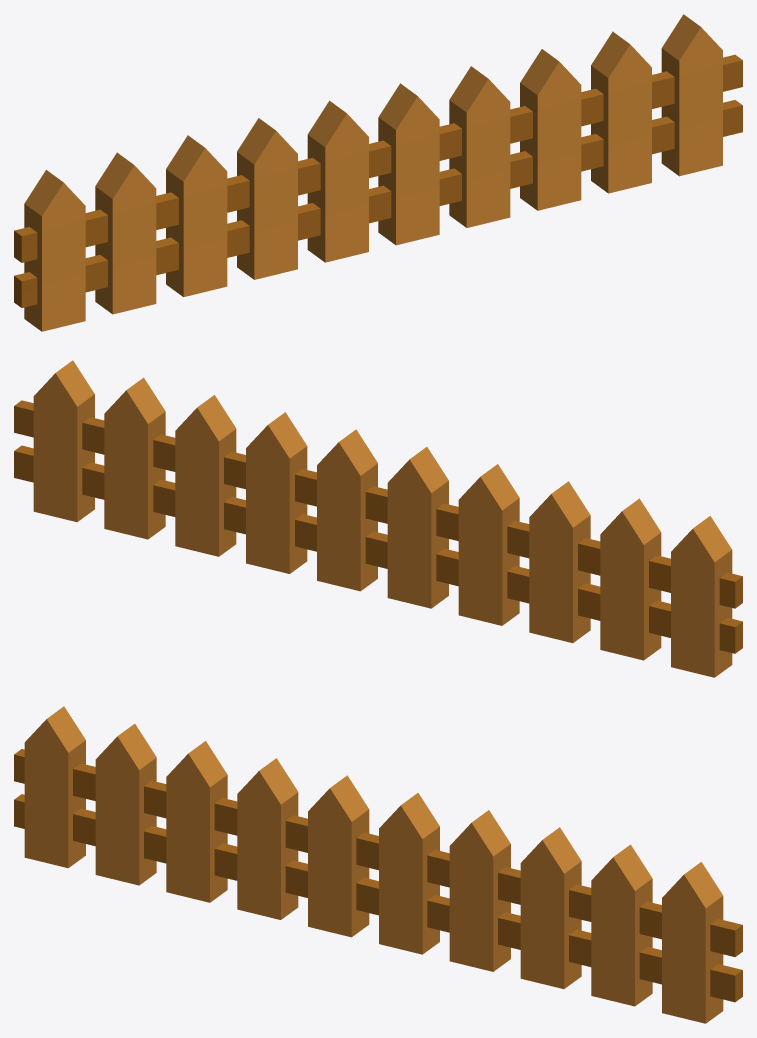
The model's file is rao.fbx.
3 views of the same model, one above another, from view 1: azimuth 30°, elevation 25°; view 2: azimuth 150°, elevation 25°; view 3: azimuth 330°, elevation 25° (orthographic).
Parts seen in each view (by area): view 1: rao; view 2: rao; view 3: rao.
Part boxes in pixels (x1,y1,x2,y2): rao: (14,14,742,331); rao: (14,360,742,677); rao: (14,706,742,1023).
Bounding box in the file's own units: 913 × 174 × 38.44.
